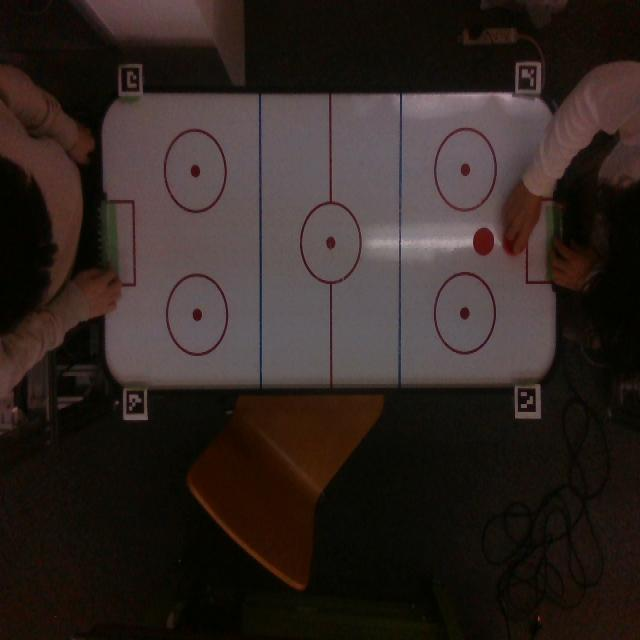puck: (473, 228, 494, 256)
